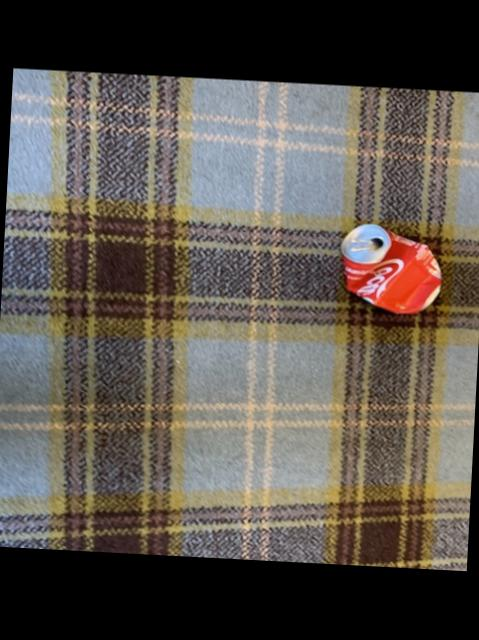metal: (338, 223, 437, 312)
